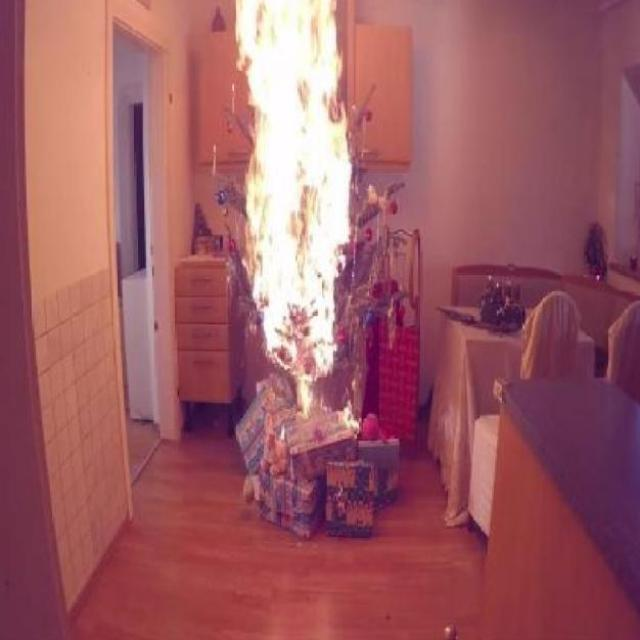smoke: (233, 0, 364, 415)
